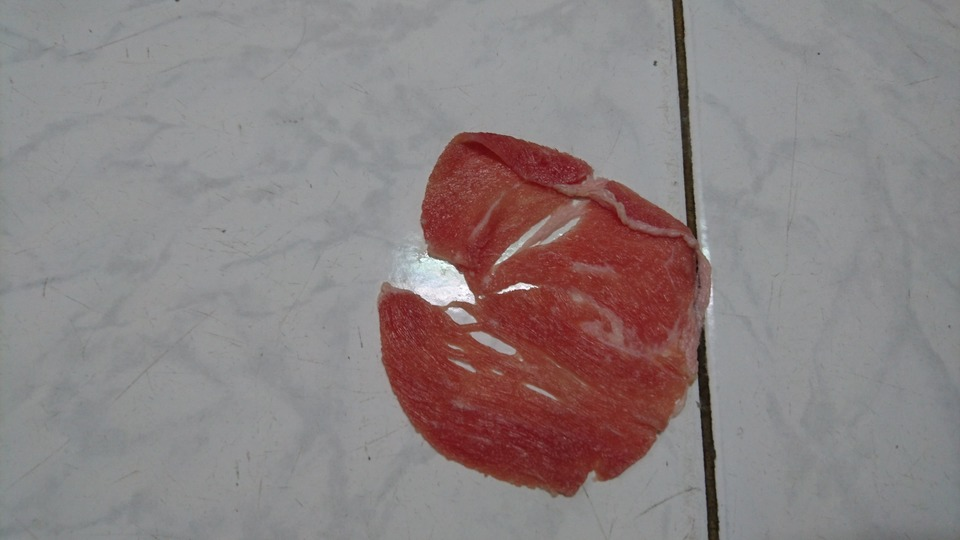restructured meat: (322, 116, 750, 508)
